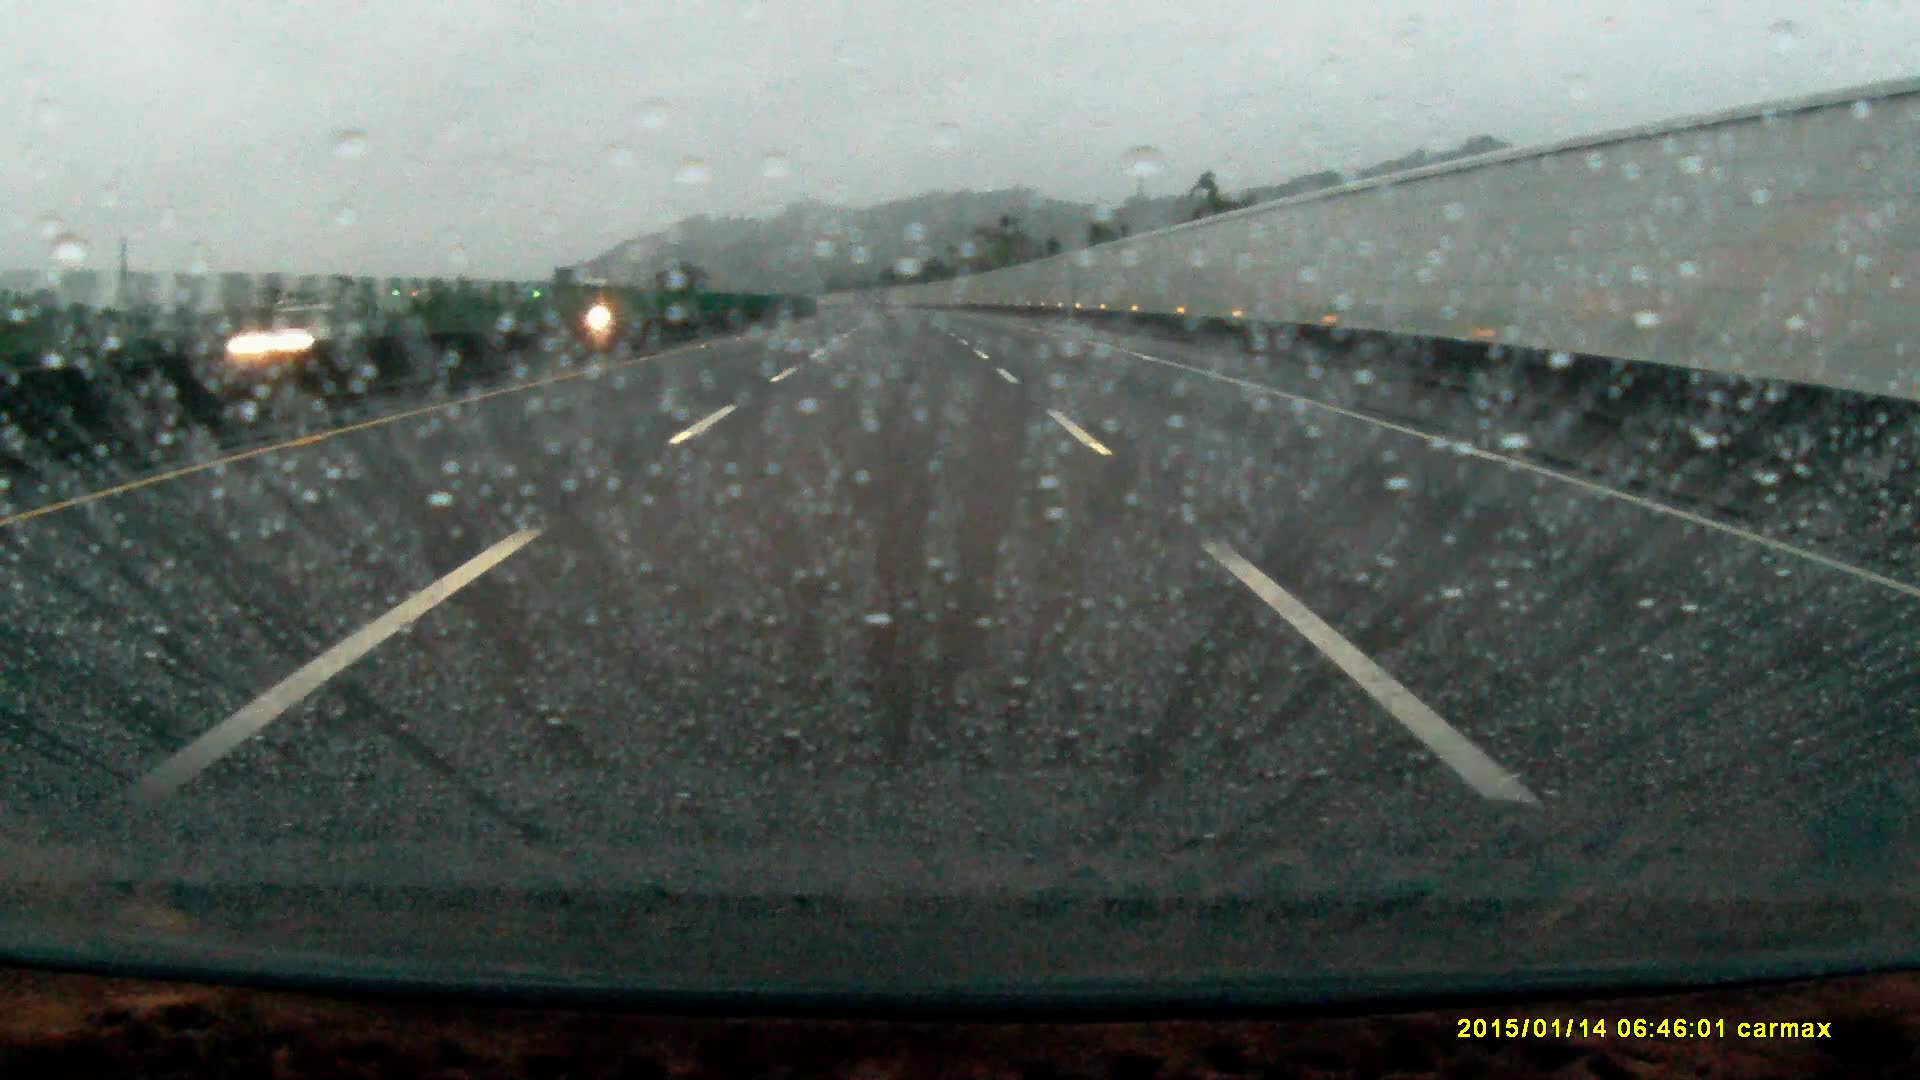vehicle: (232, 299, 381, 361), (576, 298, 650, 331)
